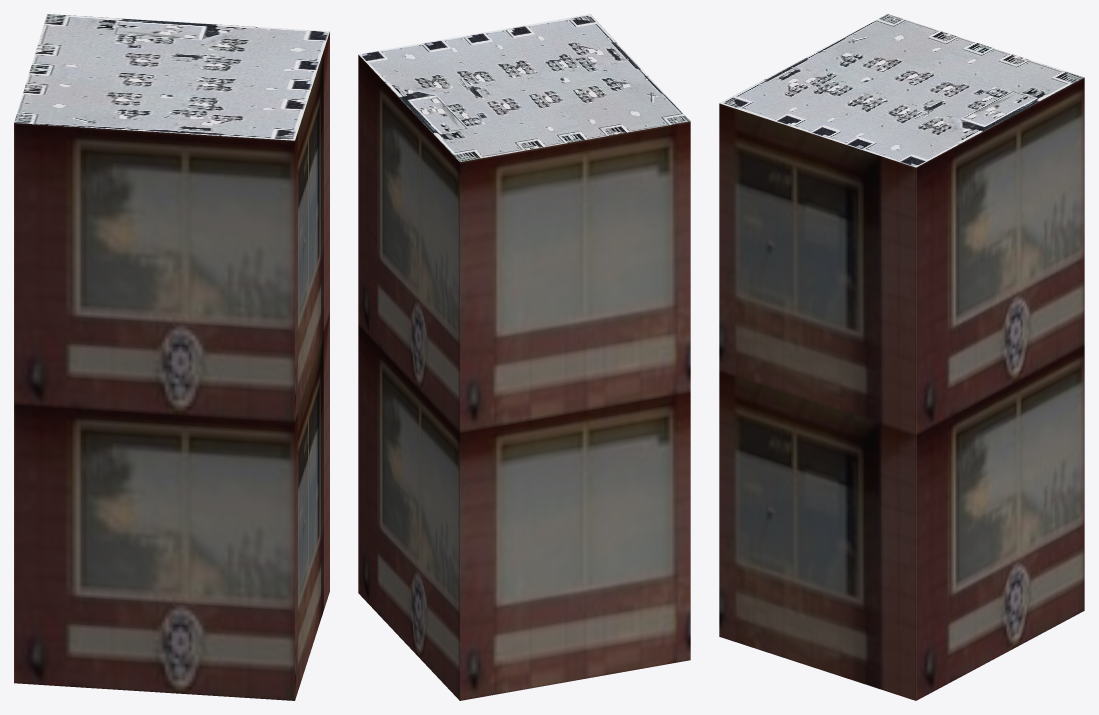
Rendered from ResTex__3669.fbx.
3 renders of one model, left to right at view 1: azimuth 30°, elevation 25°; view 2: azimuth 150°, elevation 25°; view 3: azimuth 270°, elevation 25°, orthographic. The views are drawn at different scales.
Parts seen in each view (by area): view 1: CityEngineMaterial_13_m, CityEngineMaterial_m; view 2: CityEngineMaterial_13_m, CityEngineMaterial_m; view 3: CityEngineMaterial_13_m, CityEngineMaterial_m.
Part boxes in pixels (<box>): CityEngineMaterial_13_m: <box>14,32,329,700</box>; CityEngineMaterial_m: <box>14,14,329,140</box>; CityEngineMaterial_13_m: <box>358,55,690,700</box>; CityEngineMaterial_m: <box>358,14,689,161</box>; CityEngineMaterial_13_m: <box>719,77,1084,700</box>; CityEngineMaterial_m: <box>720,14,1083,167</box>.
Size of the model in its own units: 3.71 by 6 by 3.72.
Materials: 2 (2 with a texture image).
